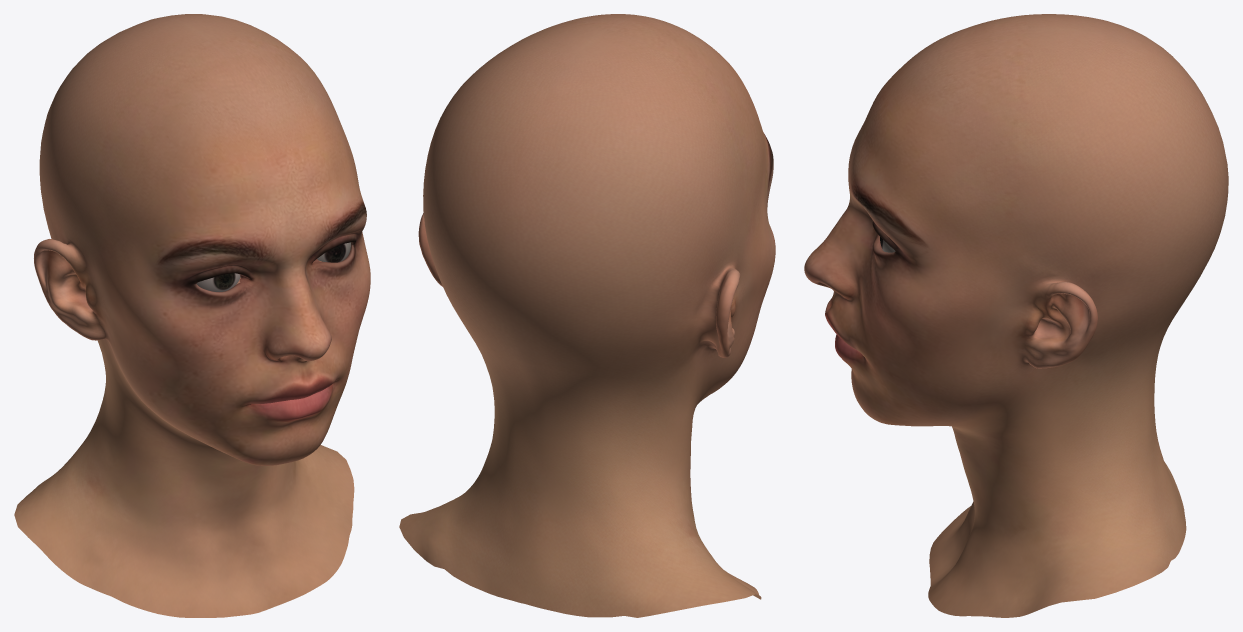
3 renders of one model, left to right at view 1: azimuth 30°, elevation 25°; view 2: azimuth 150°, elevation 25°; view 3: azimuth 270°, elevation 25°, orthographic. The views are drawn at different scales.
Visible parts, largest first — view 1: Registered head, right eye; view 2: Registered head; view 3: Registered head.
Part boxes in pixels (x1,y1,x2,y2): Registered head: (14, 14, 370, 617); right eye: (196, 273, 240, 291); Registered head: (399, 14, 775, 617); Registered head: (804, 14, 1228, 617).
Size of the model in its own units: 1.18 by 1.89 by 1.31.
3 materials, 3 textured.
